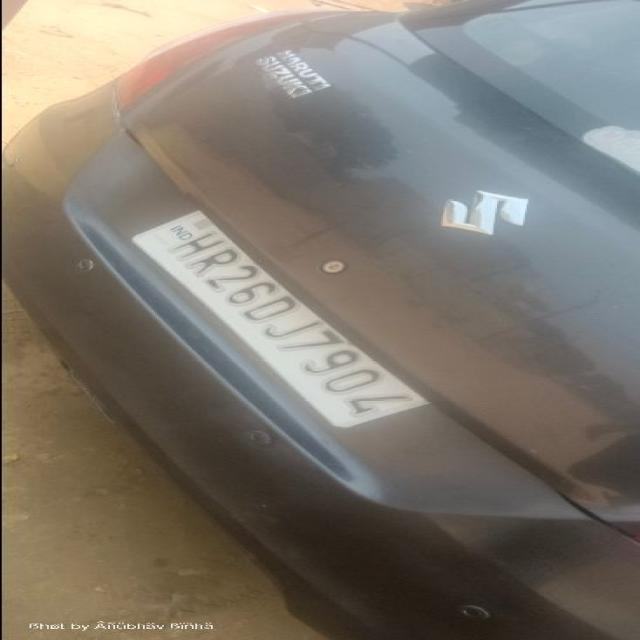license_plate: (4, 0, 636, 638)
